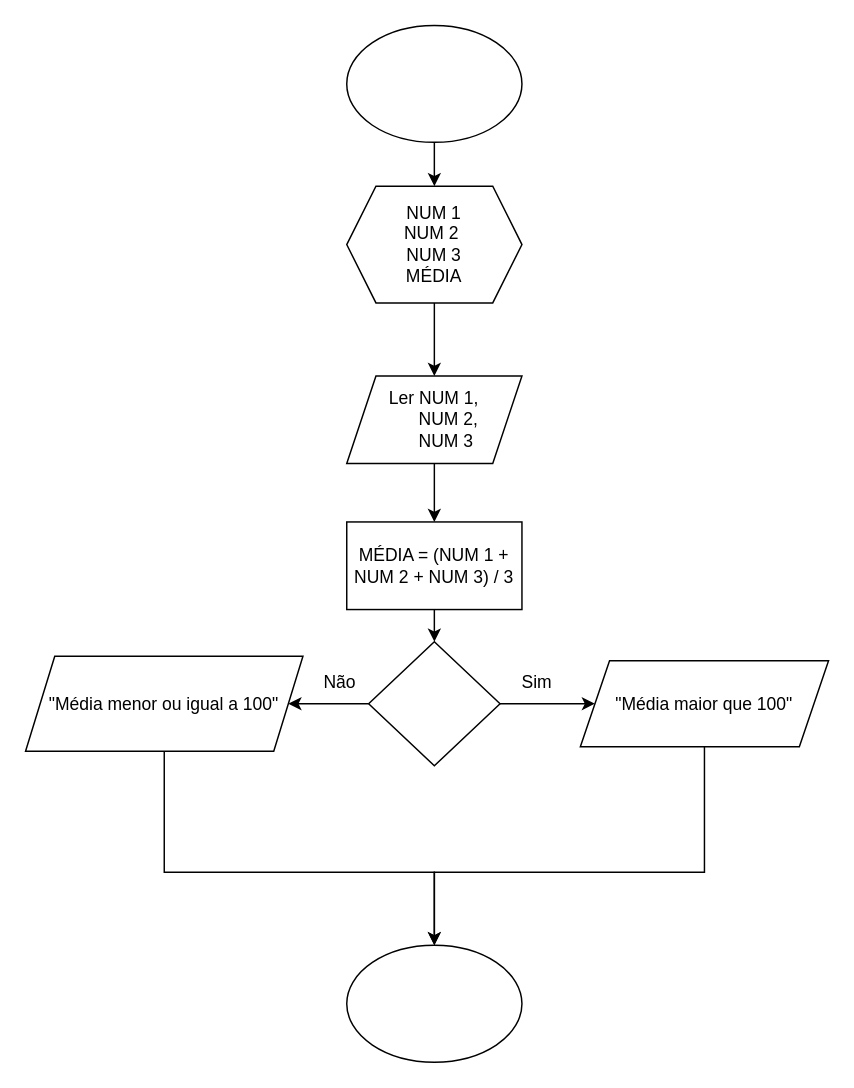
Image size: 854x1088. Some labels were removed from this diagram. The centre of each missing label's shape, as x and y in pixels:
FIM: the point at 433,1003
INICIO: the point at 433,83
MÉDIA > 100: the point at 433,703
